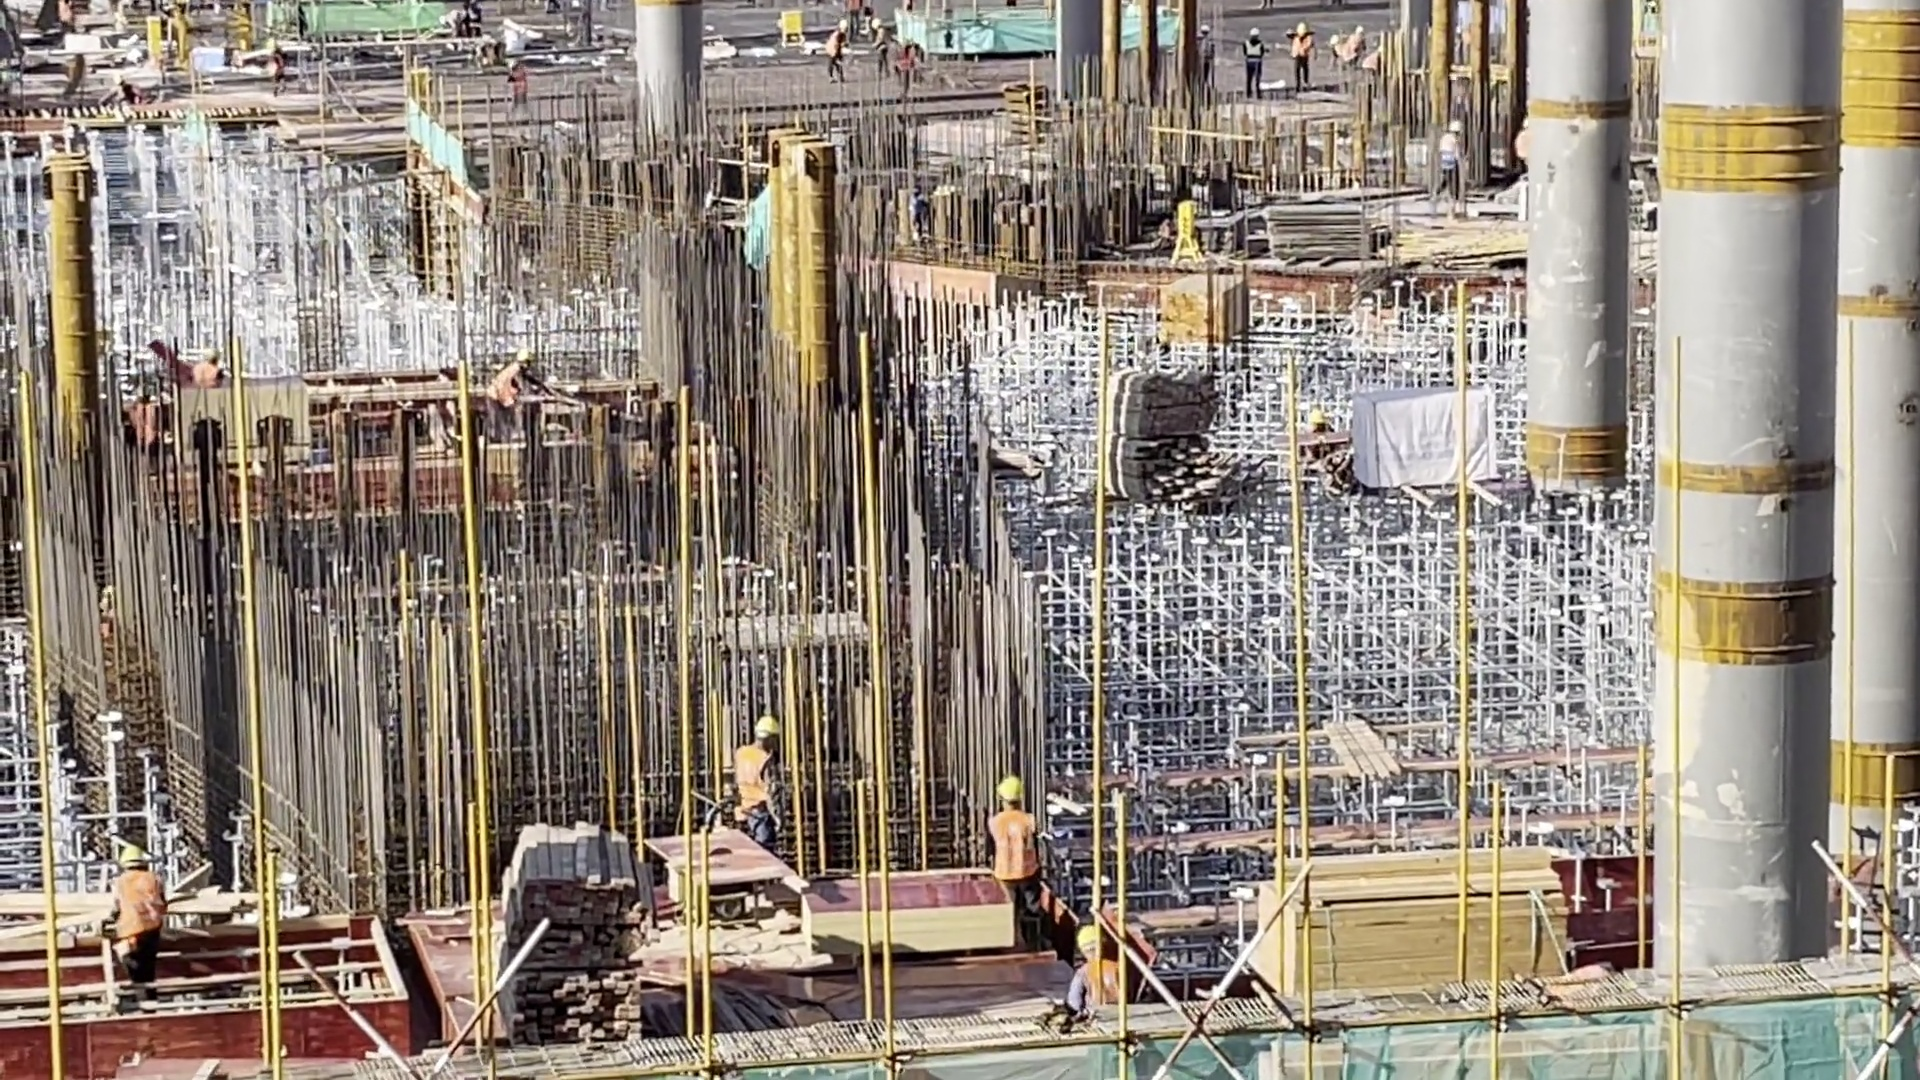helmet: (749, 716, 781, 740), (117, 845, 147, 869), (997, 779, 1026, 802), (1076, 926, 1098, 952), (1308, 408, 1328, 424), (516, 348, 535, 364), (1294, 22, 1310, 33), (1447, 120, 1463, 131), (1249, 28, 1262, 36), (1200, 24, 1212, 31), (1354, 26, 1364, 34)
person: (92, 846, 171, 988), (987, 777, 1043, 941), (732, 714, 784, 849), (486, 346, 549, 433), (1059, 925, 1119, 1011), (1239, 27, 1269, 102), (1287, 22, 1319, 91), (1438, 120, 1463, 203), (505, 60, 534, 122), (868, 17, 894, 79), (824, 19, 848, 84), (265, 36, 288, 99), (192, 346, 226, 385), (1345, 22, 1364, 77), (57, 1, 79, 33), (1361, 45, 1382, 72), (849, 1, 863, 38)
vest: (111, 872, 165, 941), (989, 811, 1042, 882), (734, 746, 776, 809), (487, 364, 525, 409), (191, 365, 224, 387), (1440, 134, 1458, 171), (1291, 37, 1313, 59), (1244, 40, 1265, 63), (826, 30, 843, 57)
